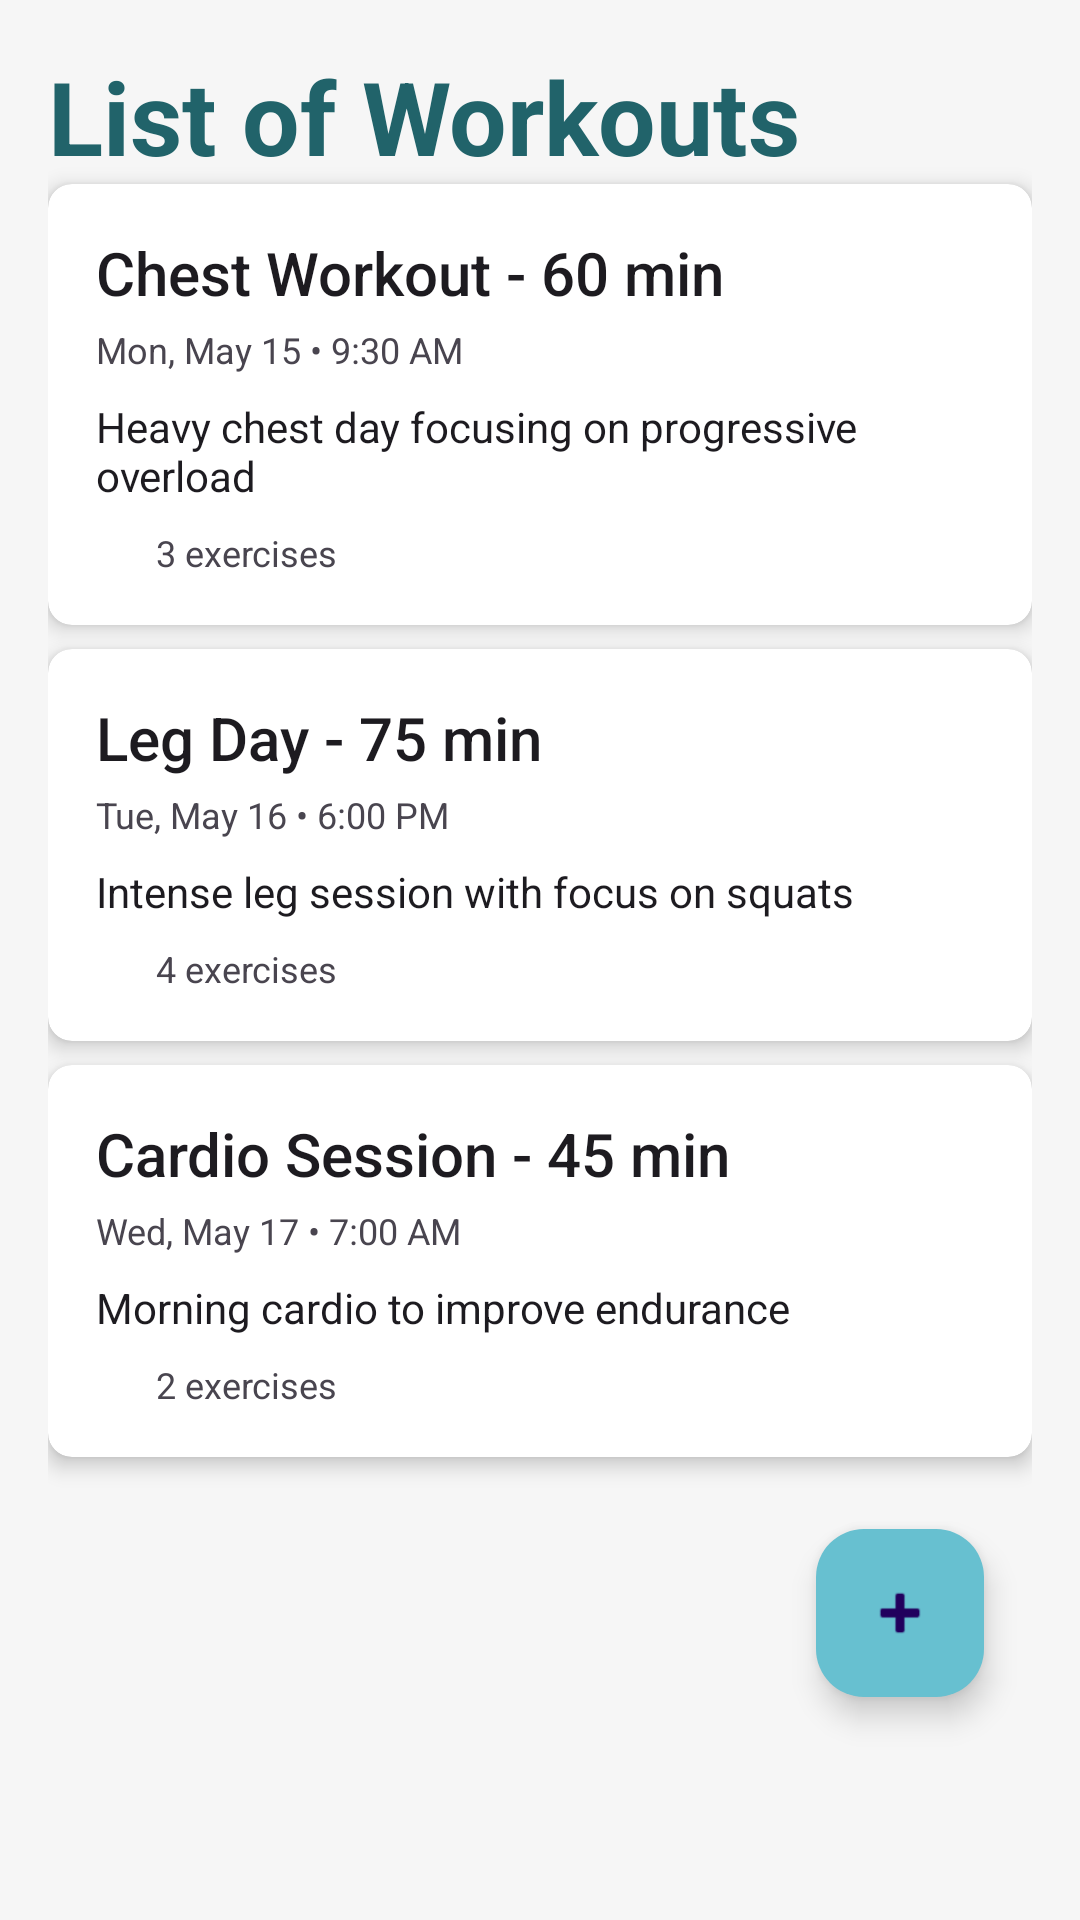

Icons on this 1080w x 1920h Android screen, each with its box as (x1, y1, x2, y2):
Add Workout: (816, 1529, 984, 1697)
